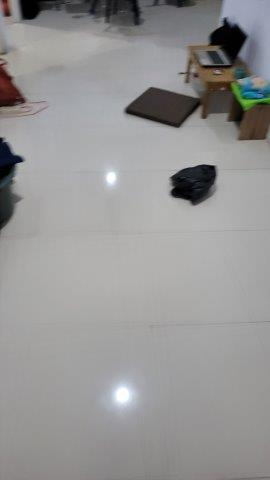plastik: (168, 163, 217, 207)
